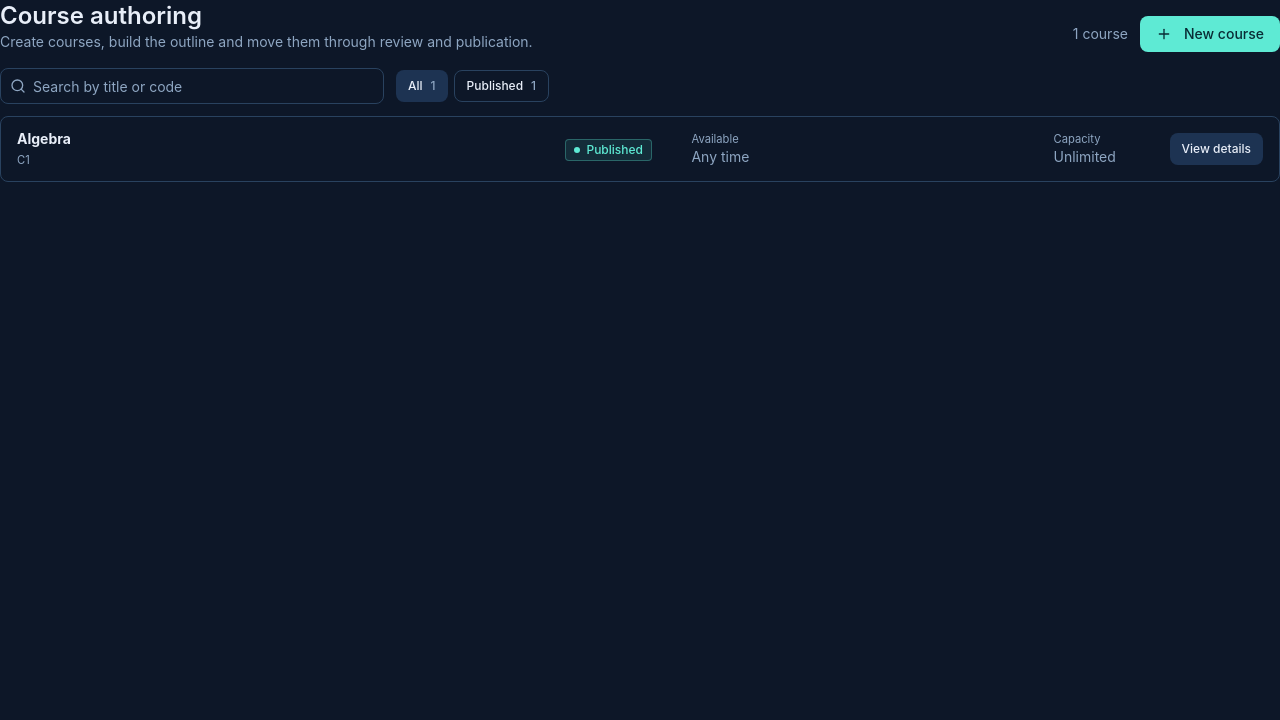
Test: course outline editing › shows no editing controls on a published course
Click the button with aria-label "View details for Algebra" at (1216, 149), box x1=1170 y1=133 x2=1263 y2=165
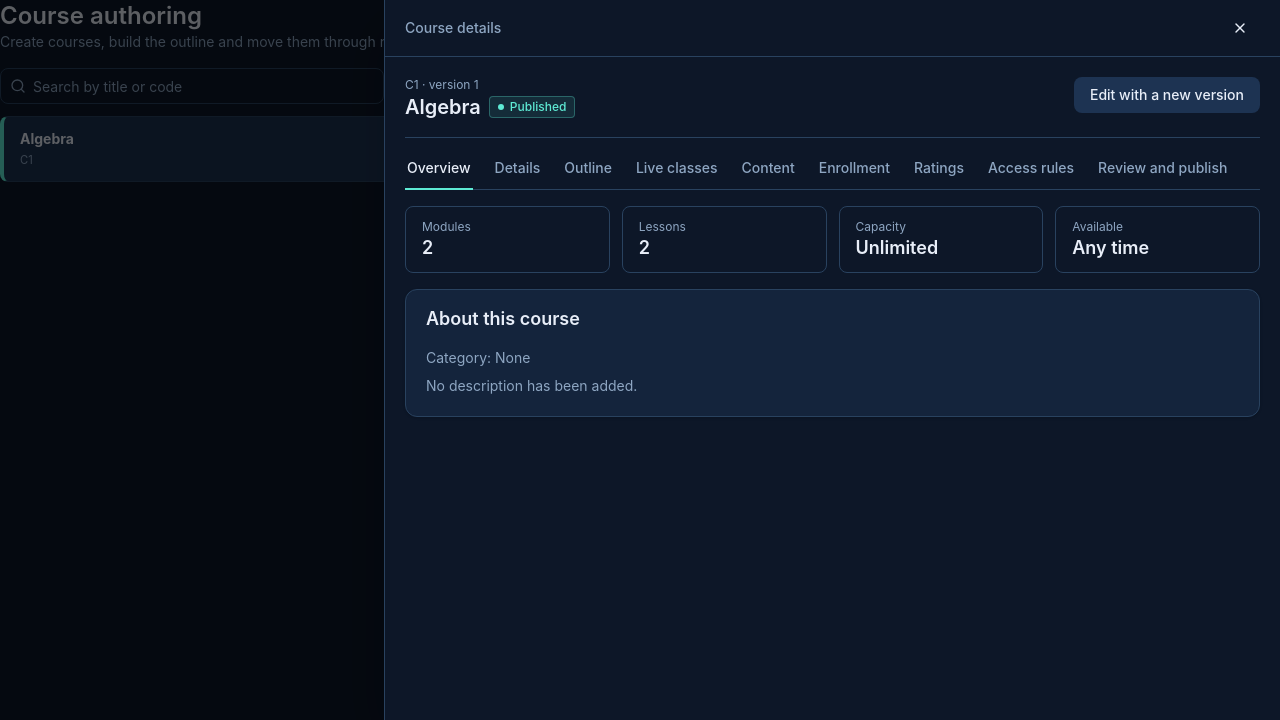
Click the tab "Outline" at (588, 172), box x1=562 y1=154 x2=614 y2=190
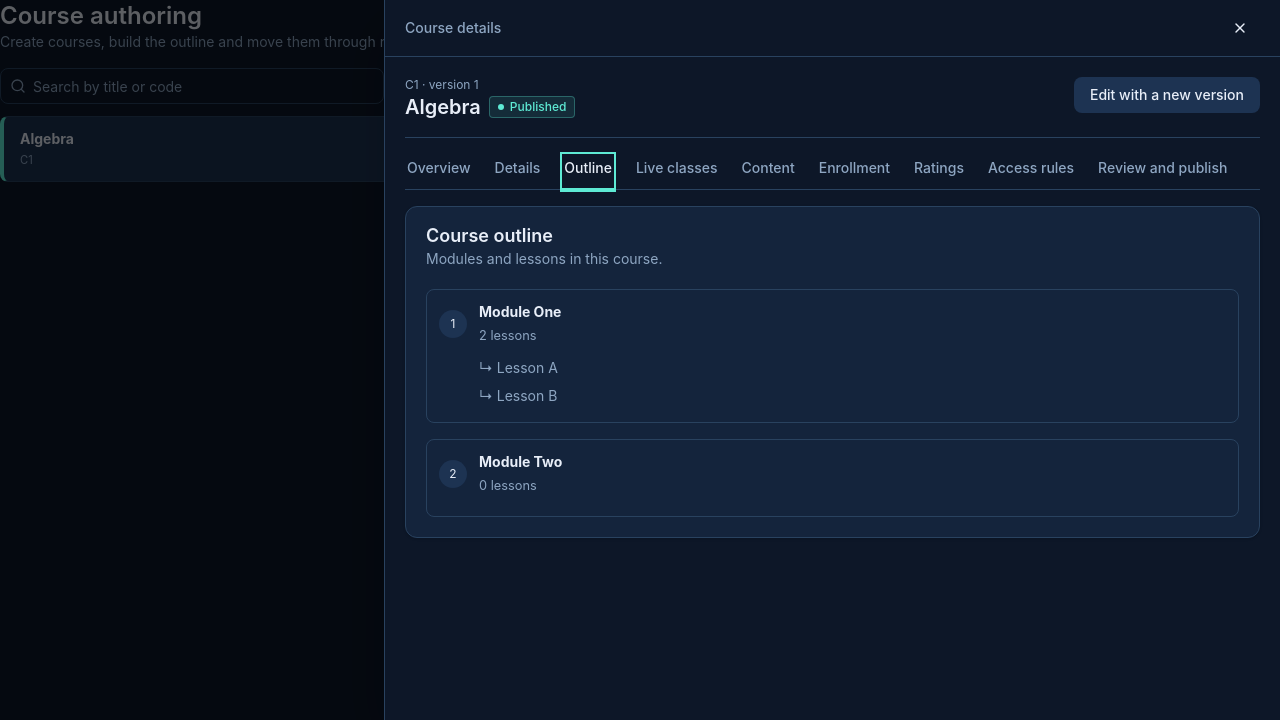
Result: the text "Module One" is shown at x1=479 y1=302 x2=562 y2=322
